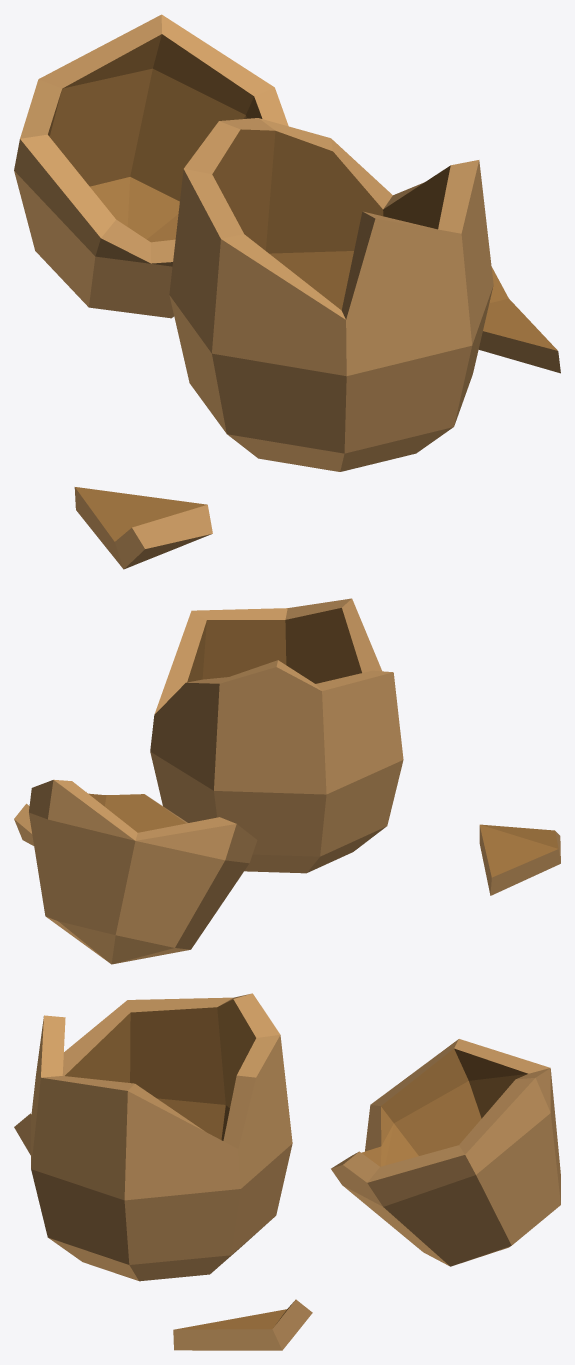
Rendered from nature_egg-dino-open.fbx.
The picture shows the model from 3 angles, top to bottom: view 1: azimuth 30°, elevation 25°; view 2: azimuth 150°, elevation 25°; view 3: azimuth 270°, elevation 25°; orthographic projection. The views are drawn at different scales.
Visible parts, largest first — view 1: nature_egg_dino_open; view 2: nature_egg_dino_open; view 3: nature_egg_dino_open.
Boxes of the visible parts, <box> form: nature_egg_dino_open: <box>14,14,560,569</box>; nature_egg_dino_open: <box>14,598,560,964</box>; nature_egg_dino_open: <box>14,993,560,1350</box>.
Bounding box in the file's own units: 188 × 99.01 × 200.
